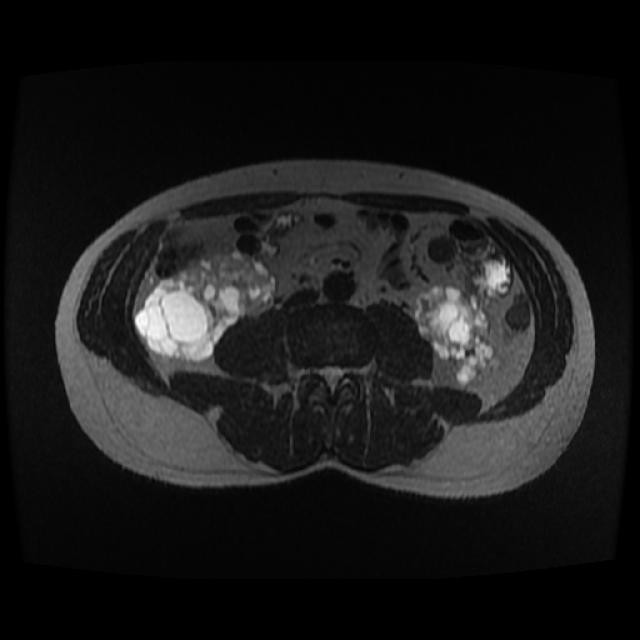sag: (131, 249, 280, 363)
sol: (409, 284, 503, 391)
